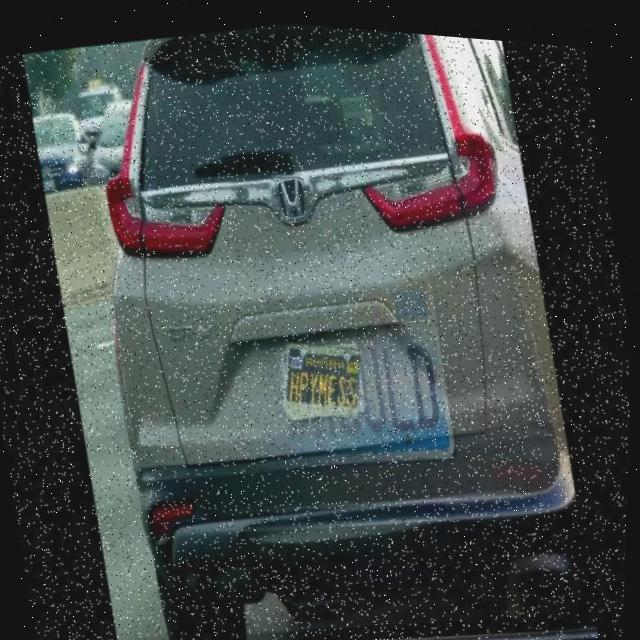LicensePlate: (275, 326, 373, 424)
